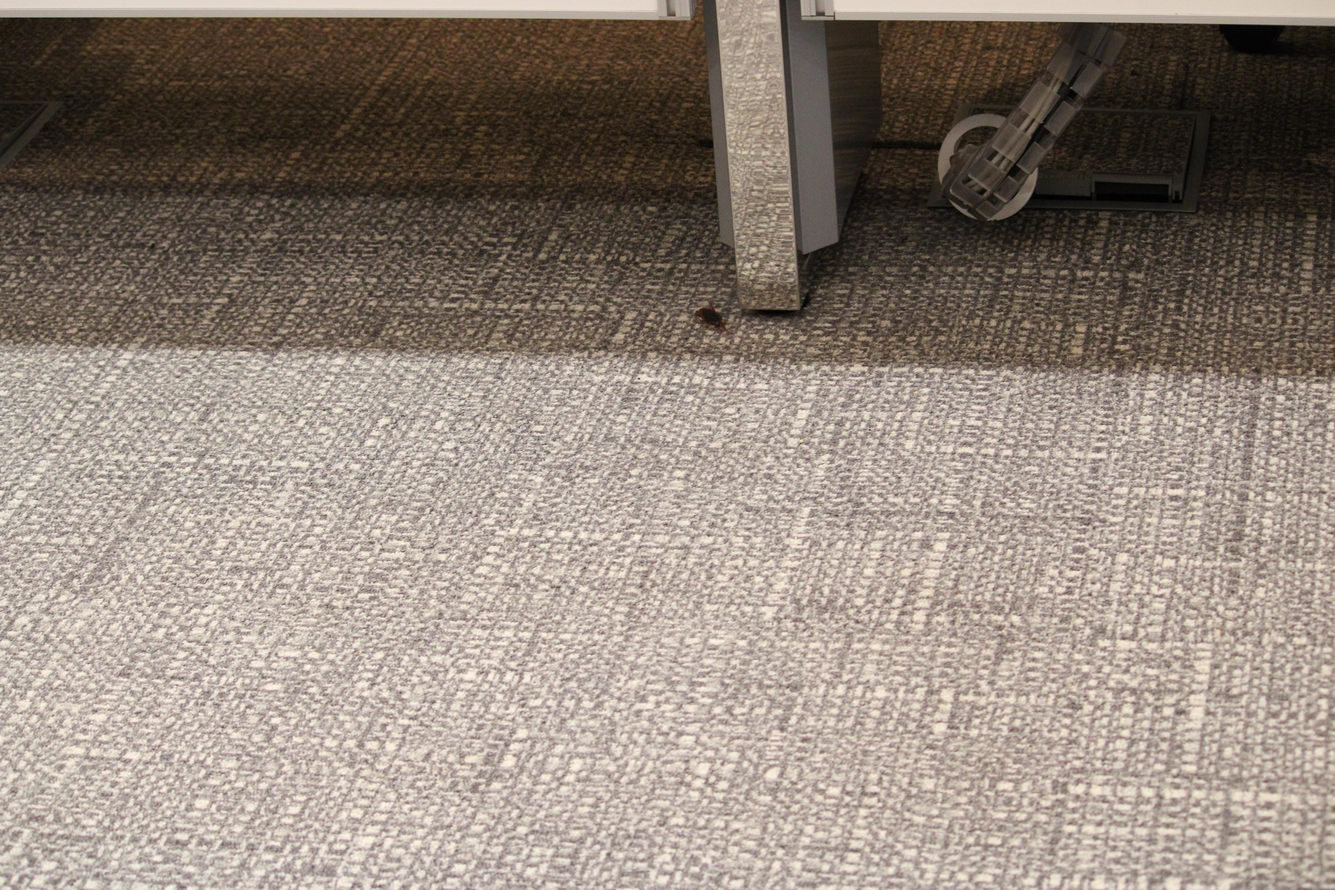cockroach: (690, 290, 734, 338)
